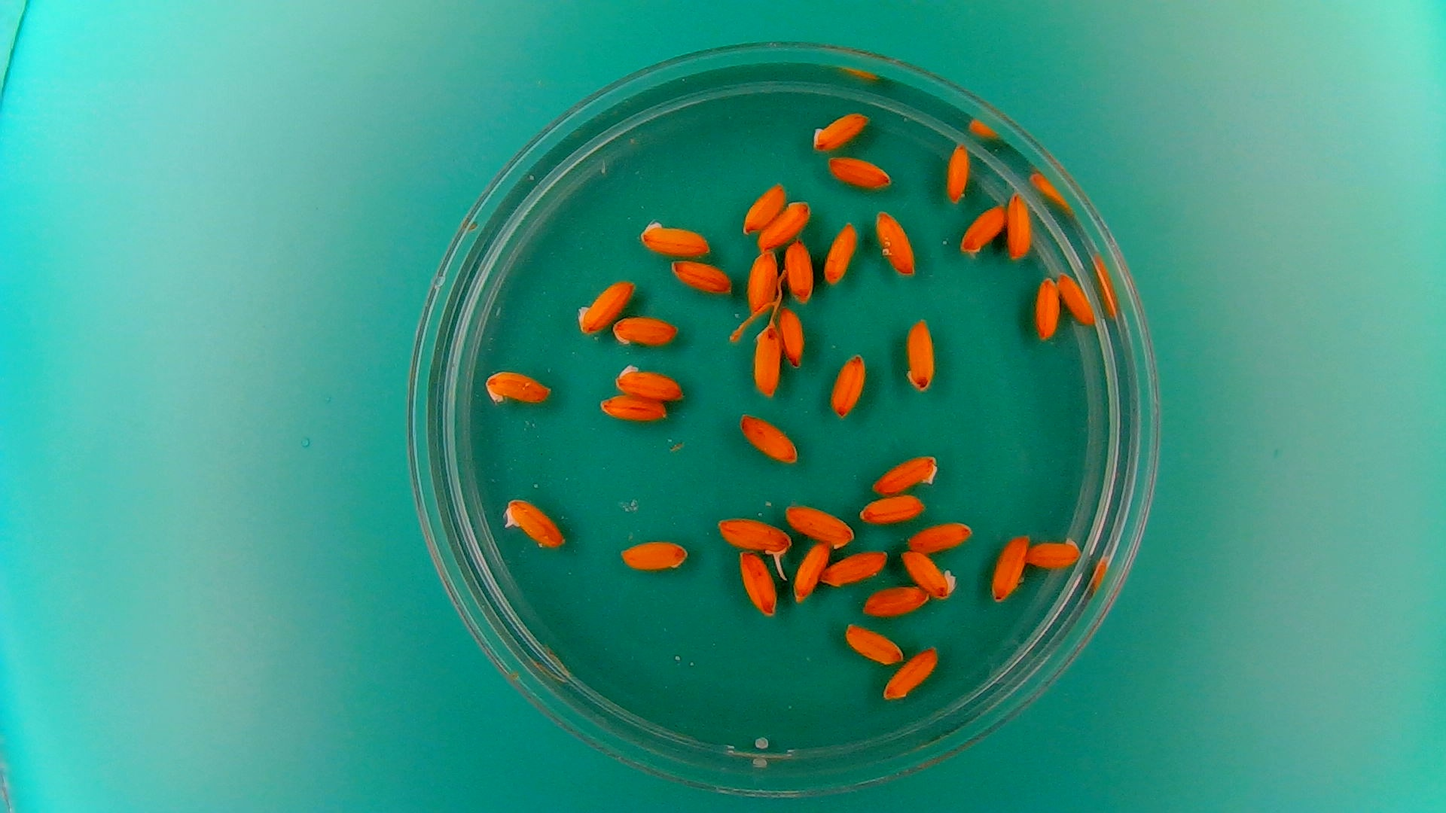no: (780, 498, 857, 550), (574, 276, 636, 336), (736, 410, 802, 466), (883, 641, 941, 703), (750, 194, 813, 251), (873, 206, 919, 277), (636, 216, 714, 257), (870, 450, 941, 495), (899, 547, 959, 600), (736, 547, 779, 620), (989, 530, 1031, 603), (611, 361, 687, 401), (739, 178, 788, 236), (842, 621, 905, 666), (481, 366, 554, 404), (828, 350, 868, 419), (822, 546, 889, 587), (957, 201, 1006, 257), (904, 314, 938, 394), (791, 538, 832, 604), (616, 536, 691, 572), (810, 108, 871, 152), (667, 257, 734, 297), (903, 517, 976, 553), (821, 217, 859, 286), (750, 320, 782, 400), (744, 245, 780, 316), (825, 153, 894, 190), (859, 582, 929, 618), (611, 312, 681, 348), (1055, 269, 1097, 327), (856, 492, 929, 524), (782, 235, 816, 303), (595, 393, 668, 424), (1004, 187, 1034, 261), (1025, 534, 1081, 570), (943, 138, 972, 204), (1033, 273, 1061, 341), (778, 305, 806, 369)
yes: (500, 495, 568, 550), (716, 515, 794, 562)
